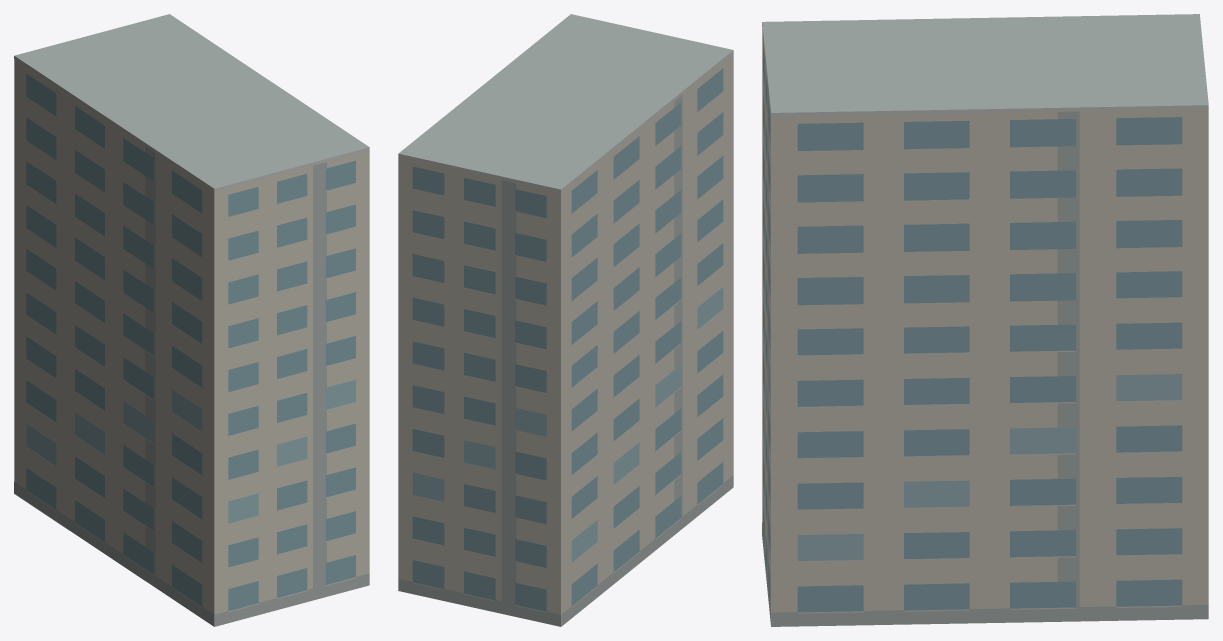
File: residential-e298ec16-8843-461c-8e38-f196fdb10646.glb
3 renders of one model, left to right at view 1: azimuth 30°, elevation 25°; view 2: azimuth 150°, elevation 25°; view 3: azimuth 270°, elevation 25°, orthographic. The views are drawn at different scales.
Visible parts, largest first — view 1: residential-e298ec16-8843-461c-8e38-f196fdb10646.tmp; view 2: residential-e298ec16-8843-461c-8e38-f196fdb10646.tmp; view 3: residential-e298ec16-8843-461c-8e38-f196fdb10646.tmp.
Part boxes in pixels (box(x1,y1,x2,y2)): residential-e298ec16-8843-461c-8e38-f196fdb10646.tmp: box(14, 14, 369, 626); residential-e298ec16-8843-461c-8e38-f196fdb10646.tmp: box(398, 14, 733, 626); residential-e298ec16-8843-461c-8e38-f196fdb10646.tmp: box(762, 14, 1208, 626).
Size of the model in its own units: 12.81 by 31 by 24.42.
